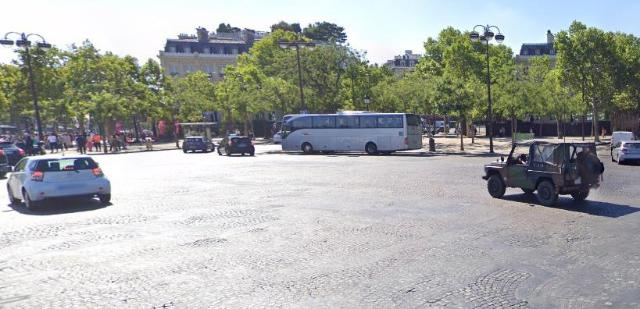bus: (279, 112, 426, 166)
car: (6, 152, 113, 211), (217, 133, 256, 157), (183, 133, 215, 154)
truck: (480, 137, 606, 207)
